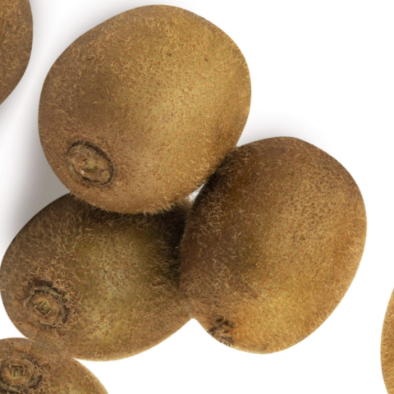kiwi: (0, 0, 297, 274), (141, 89, 394, 388), (0, 124, 237, 389)
